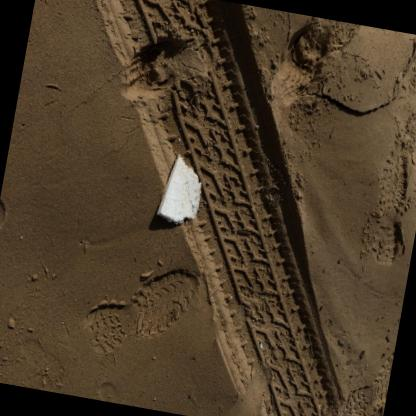Waste: (156, 151, 200, 223), (259, 341, 261, 347)
